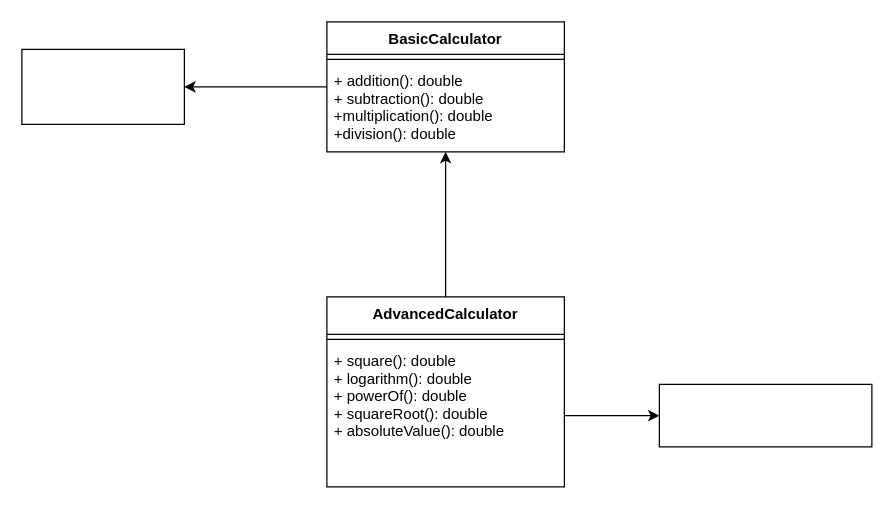
The diagram is 894 pixels wide and 513 high, and some of its shapes have lost their labels. The shapes that lost their labels are listed below. From the top down, each one's centre as x and y in pixels, then its label:
the point at 102,86: «interface» BasicOperations
the point at 765,415: «interface» AdvancedOPerations
